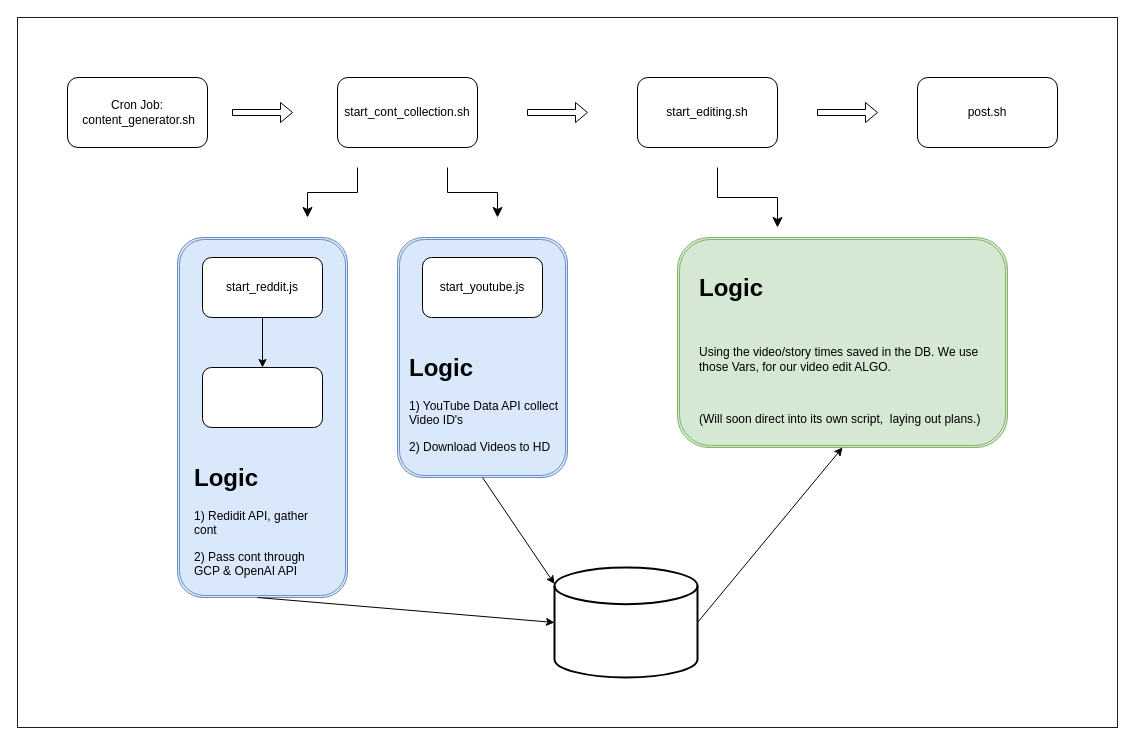
The diagram is 1135 pixels wide and 745 high, and some of its shapes have lost their labels. The centre of each missing label's shape, as x and y in pixels:
Content Info DB: the point at 625,622
reddit_content_format /workflow.js: the point at 262,397
